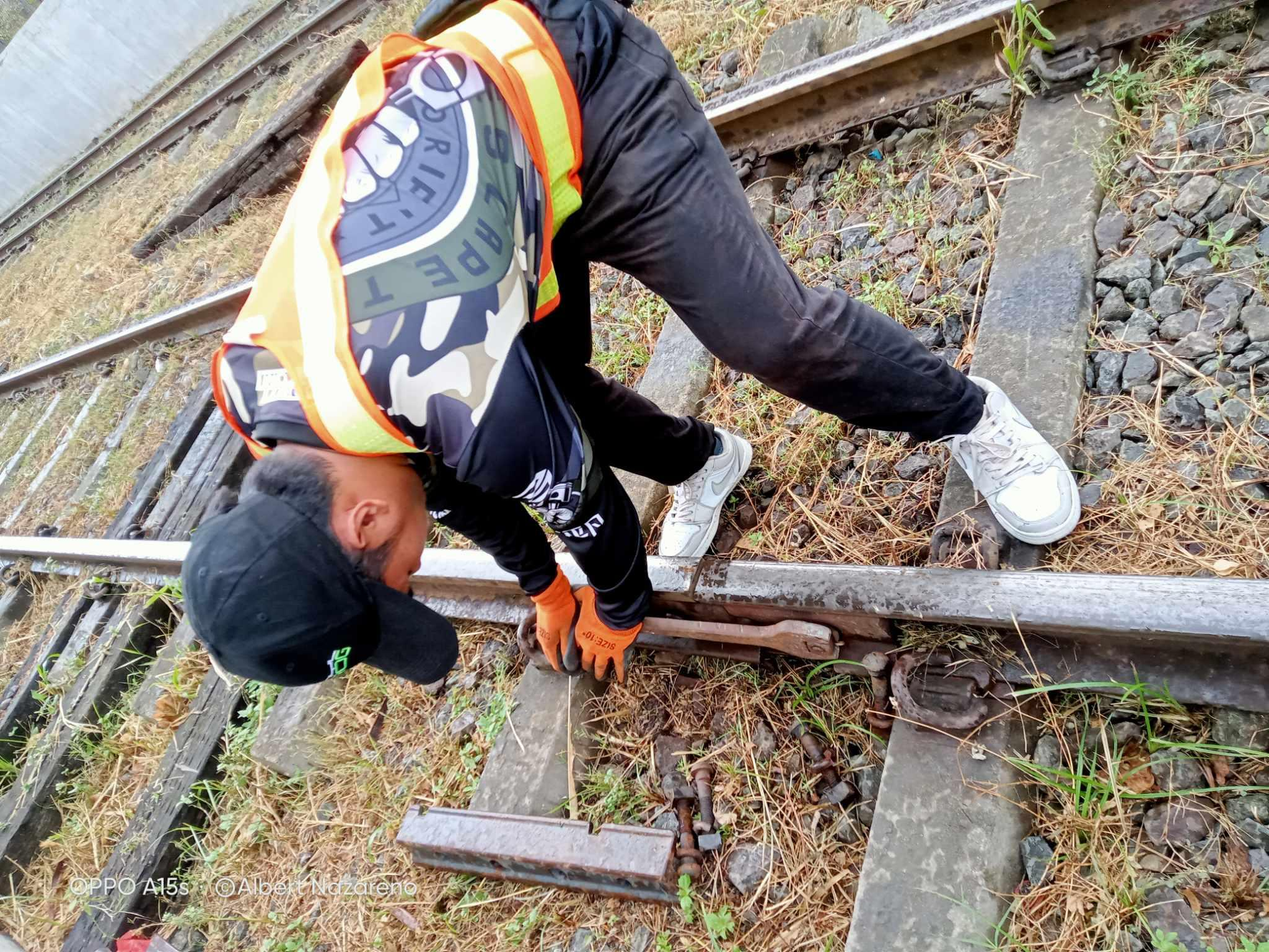railway-gap: (656, 540, 743, 621)
